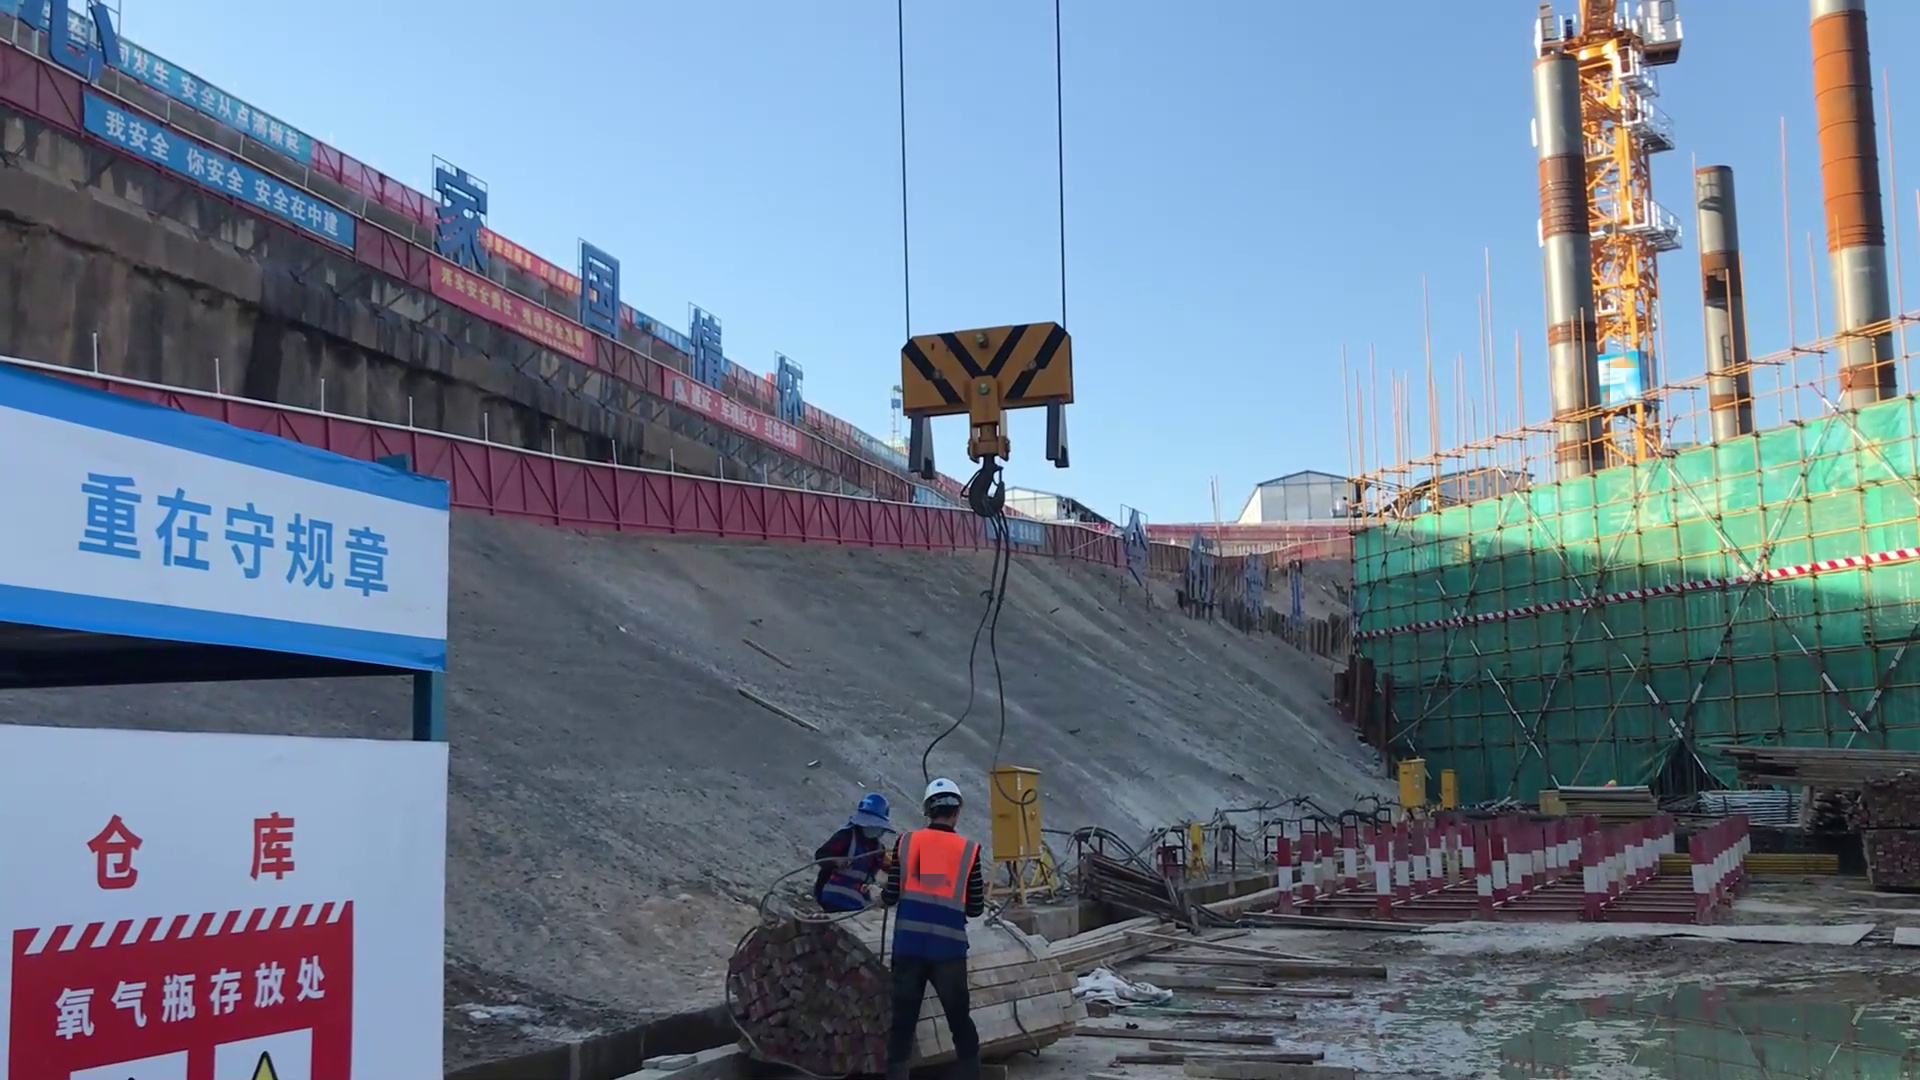ebox: (990, 766, 1045, 856), (1388, 757, 1427, 804), (1437, 766, 1460, 807)
fence: (454, 441, 830, 555), (830, 497, 981, 557)
helmet: (840, 793, 891, 836), (913, 773, 957, 815)
hook: (906, 312, 1078, 482)
person: (897, 775, 994, 1061), (816, 783, 896, 916)
slogan: (92, 115, 362, 326), (69, 494, 430, 611), (78, 27, 326, 193), (423, 272, 577, 387)
vest: (905, 831, 961, 905)
wood: (736, 929, 877, 1068), (1696, 737, 1918, 800)
